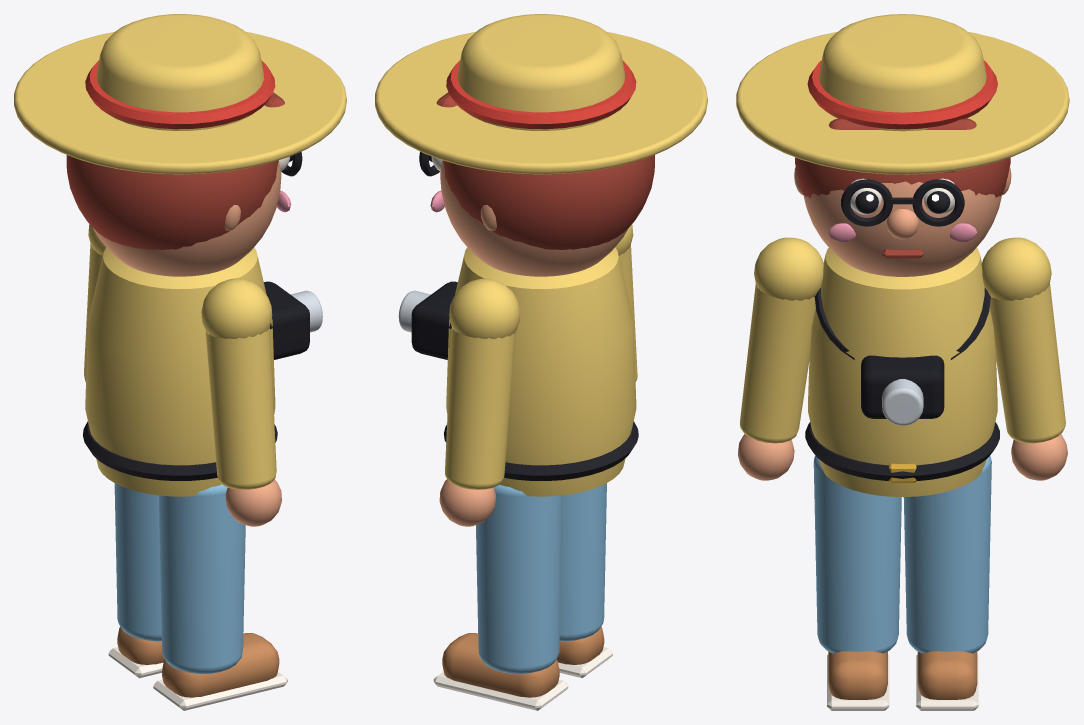
Rendered from ped_tourist.glb.
3 renders of one model, left to right at view 1: azimuth 30°, elevation 25°; view 2: azimuth 150°, elevation 25°; view 3: azimuth 270°, elevation 25°, orthographic.
Visible parts, largest first — view 1: ped_tourist; view 2: ped_tourist; view 3: ped_tourist.
Boxes of the visible parts, x1,y1,x2,y2 form: ped_tourist: [14, 14, 346, 710]; ped_tourist: [375, 14, 707, 710]; ped_tourist: [736, 14, 1069, 710].
Size of the model in its own units: 0.6828 by 1.44 by 0.6824.
Materials: 1 (1 with a texture image).
